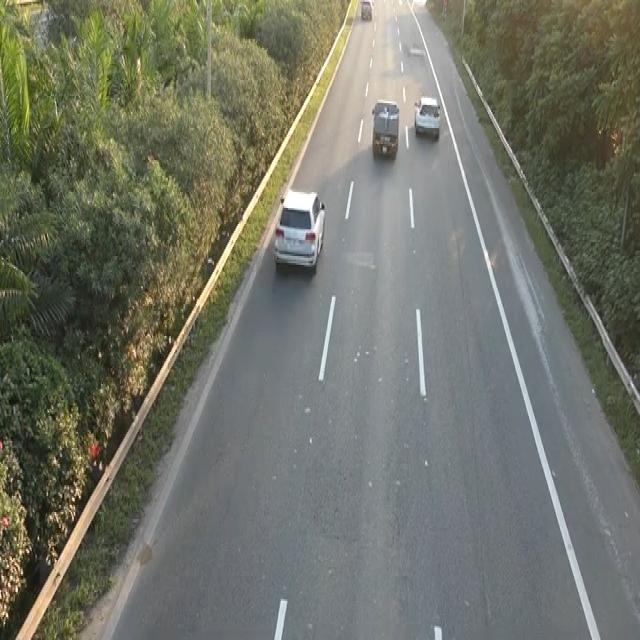car: (271, 185, 329, 279), (413, 92, 441, 138)
minivan: (370, 96, 400, 160)
